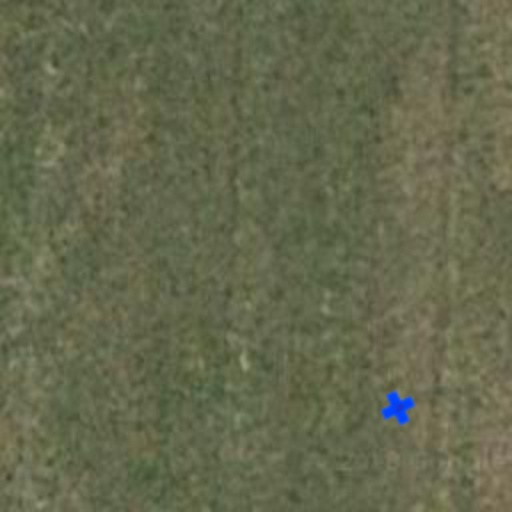cross: (374, 384, 422, 432)
